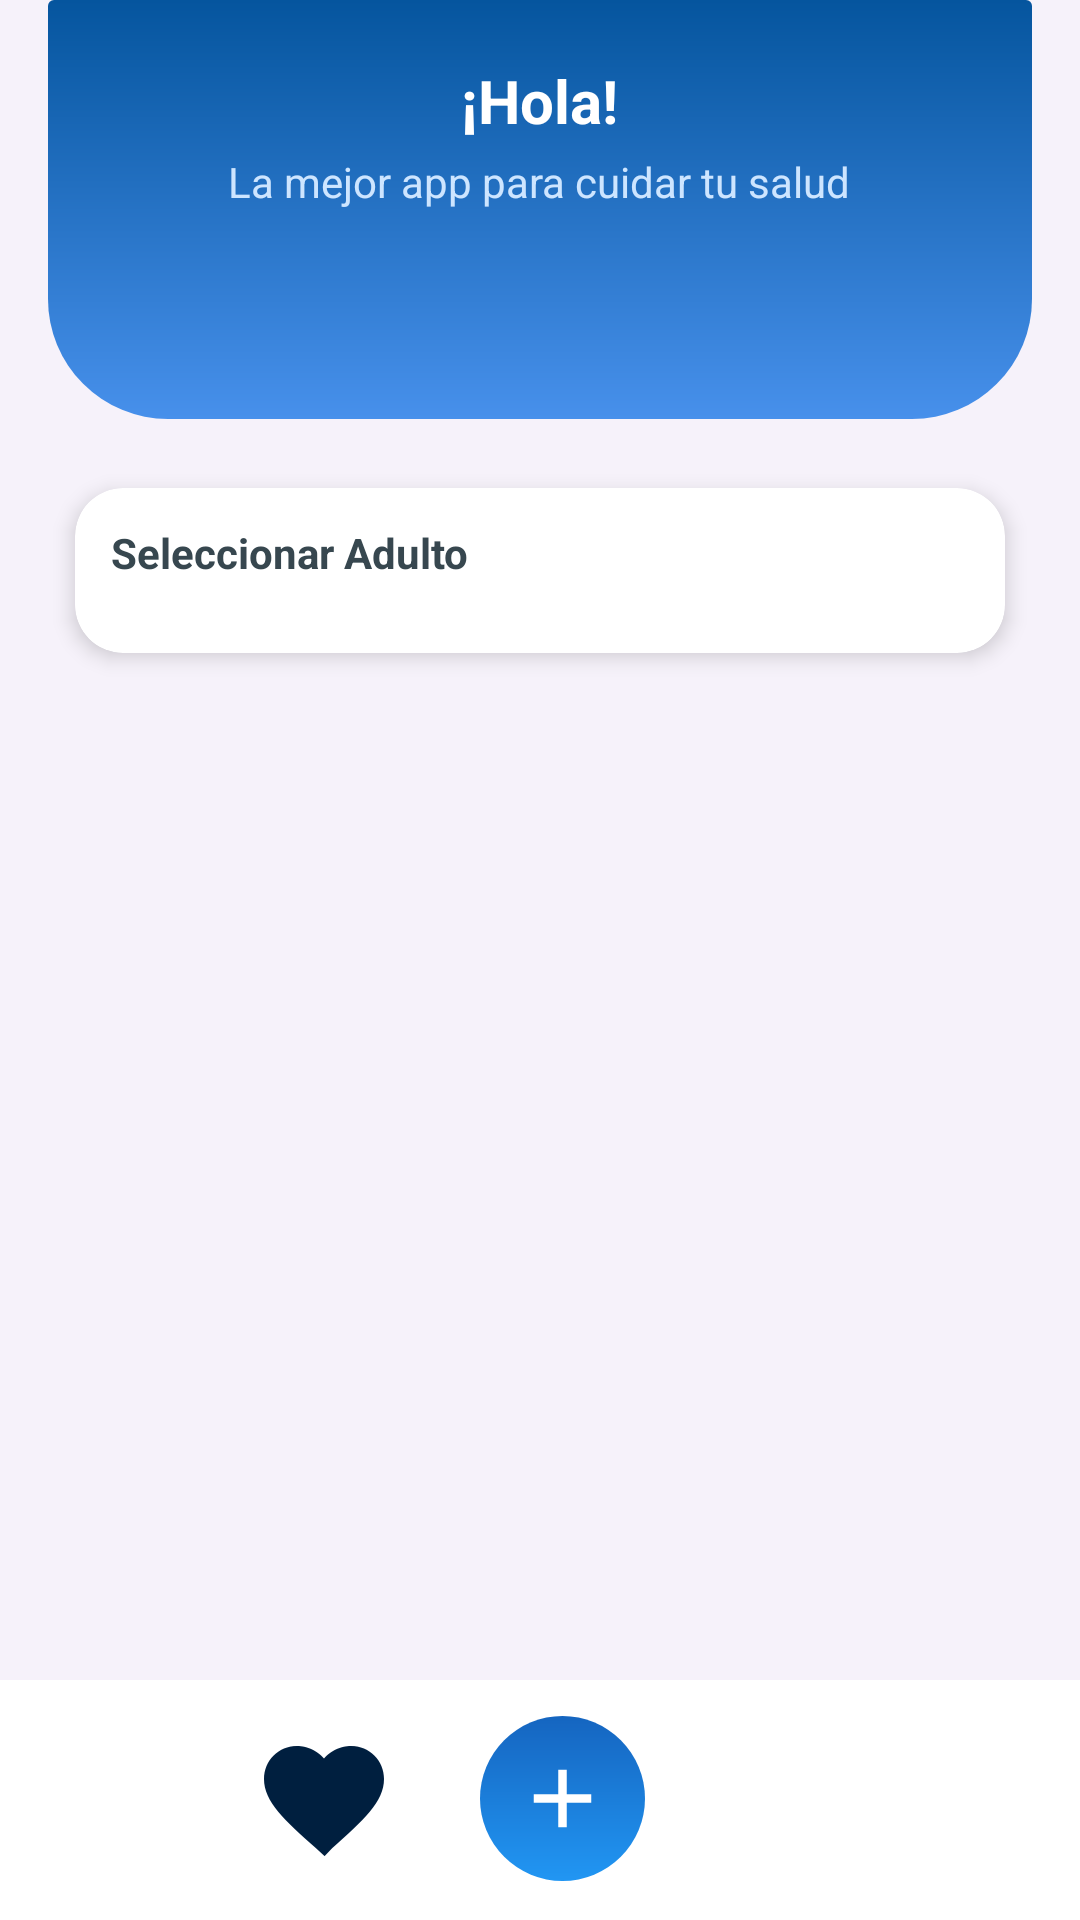

Icon click points for this 1080×1920 phone screenshot, format [x,y]:
add: [562,1798]
heart: [324,1801]
